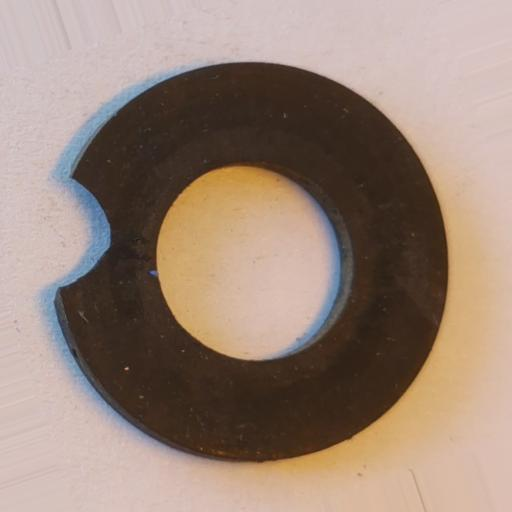defect: (51, 175, 116, 306)
